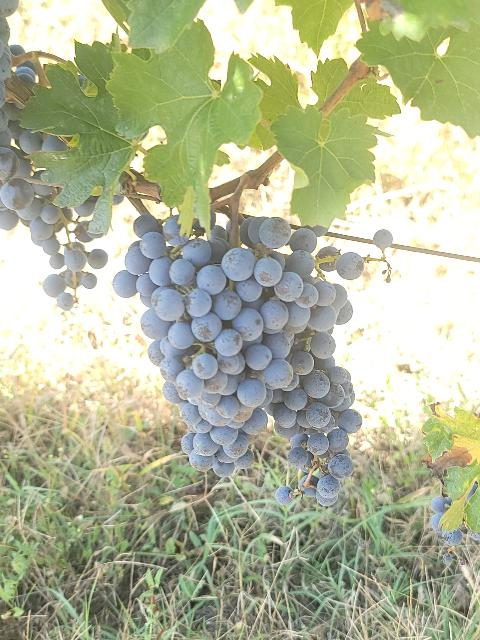grapes: (149, 238, 342, 476), (245, 218, 365, 506), (0, 102, 108, 310), (114, 215, 176, 308), (145, 311, 175, 335), (191, 238, 210, 265), (126, 195, 150, 215), (148, 335, 165, 362), (162, 300, 185, 314), (165, 216, 179, 234)
